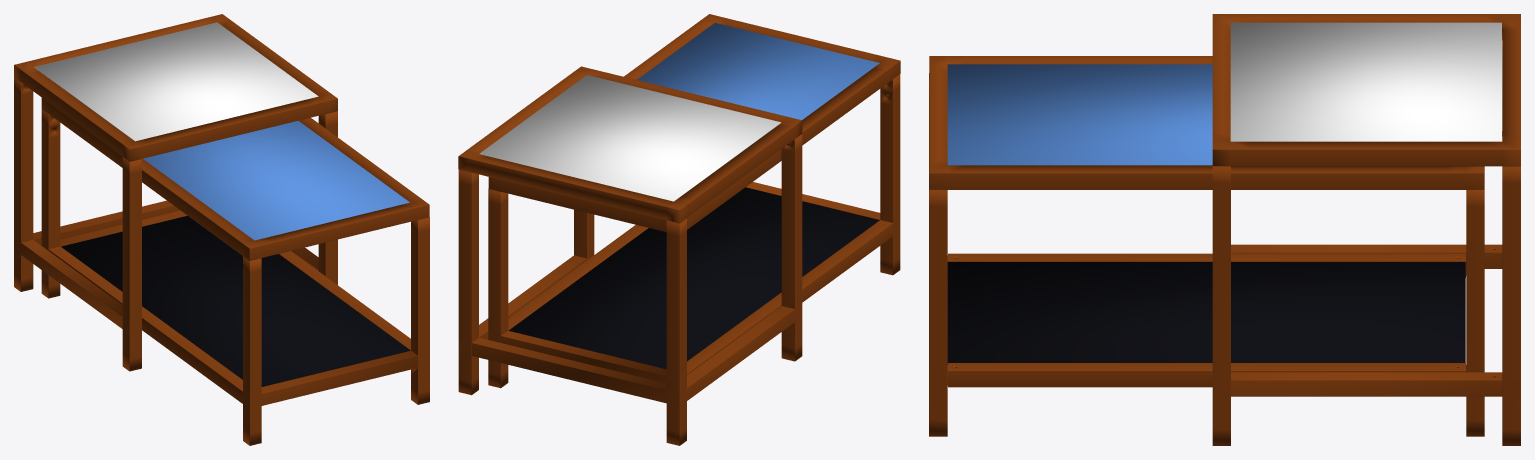
3 views of the same model, side by side, from view 1: azimuth 30°, elevation 25°; view 2: azimuth 150°, elevation 25°; view 3: azimuth 270°, elevation 25° (orthographic). The views are drawn at different scales.
Parts seen in each view (by area): view 1: Box010, Box003, Box011, Box001, gambe_del_tavolo2, Box004, Box009, tavolo2, Box008, Box006; view 2: Box010, Box001, Box003, Box011, Box004, Box009, tavolo2, gambe_del_tavolo2, Box008, Box006; view 3: Box010, Box003, Box011, Box001, Box009, Box004, Box006, gambe_del_tavolo2, Box008, tavolo2.
Boxes of the visible parts, x1=… form: Box010: x1=61, y1=215, x2=410, y2=386; Box003: x1=34, y1=22, x2=318, y2=141; Box011: x1=143, y1=120, x2=409, y2=240; Box001: x1=14, y1=77, x2=337, y2=371; gambe_del_tavolo2: x1=242, y1=217, x2=429, y2=445; Box004: x1=14, y1=14, x2=337, y2=161; Box009: x1=41, y1=98, x2=429, y2=260; tavolo2: x1=41, y1=109, x2=187, y2=298; Box008: x1=48, y1=246, x2=242, y2=403; Box006: x1=279, y1=251, x2=410, y2=350; Box010: x1=508, y1=187, x2=879, y2=369; Box001: x1=458, y1=134, x2=802, y2=445; Box003: x1=479, y1=75, x2=781, y2=201; Box011: x1=637, y1=23, x2=879, y2=119; Box004: x1=458, y1=66, x2=802, y2=223; Box009: x1=488, y1=14, x2=900, y2=231; tavolo2: x1=488, y1=189, x2=666, y2=388; gambe_del_tavolo2: x1=746, y1=74, x2=900, y2=275; Box008: x1=687, y1=220, x2=892, y2=375; Box006: x1=508, y1=225, x2=648, y2=330; Box010: x1=947, y1=262, x2=1465, y2=364; Box003: x1=1230, y1=22, x2=1501, y2=141; Box011: x1=947, y1=64, x2=1212, y2=165; Box001: x1=1212, y1=41, x2=1520, y2=445; Box009: x1=929, y1=56, x2=1484, y2=189; Box004: x1=1212, y1=14, x2=1520, y2=166; Box006: x1=948, y1=363, x2=1465, y2=387; gambe_del_tavolo2: x1=929, y1=73, x2=958, y2=436; Box008: x1=948, y1=253, x2=1465, y2=277; tavolo2: x1=1455, y1=166, x2=1484, y2=436.
Bounding box in the file's own units: 52.07 × 53.04 × 95.97.
